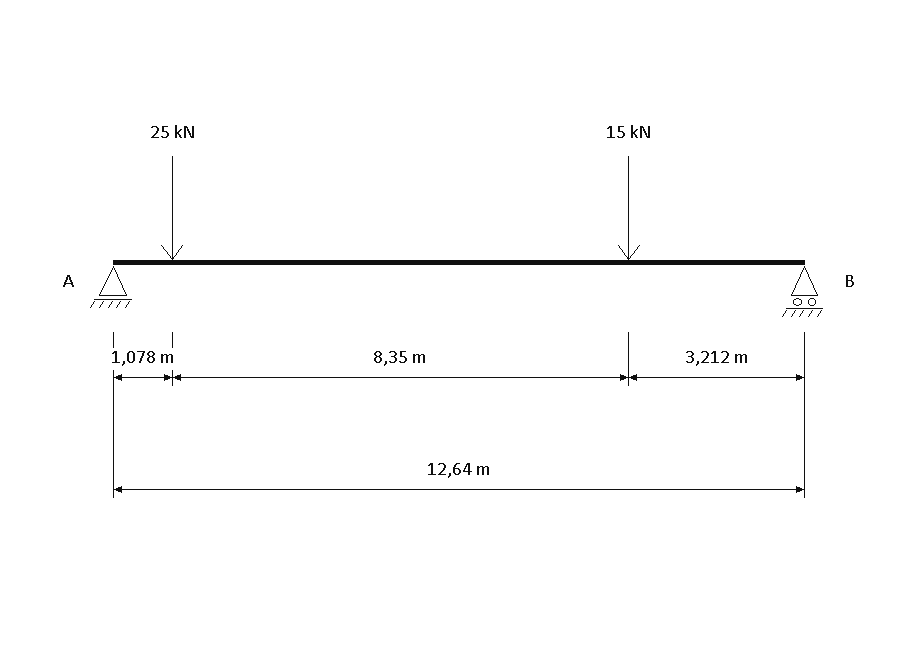pin_support: (90, 266, 132, 308)
point_load: (161, 156, 183, 260), (618, 156, 640, 260)
roller_support: (782, 266, 823, 317)
